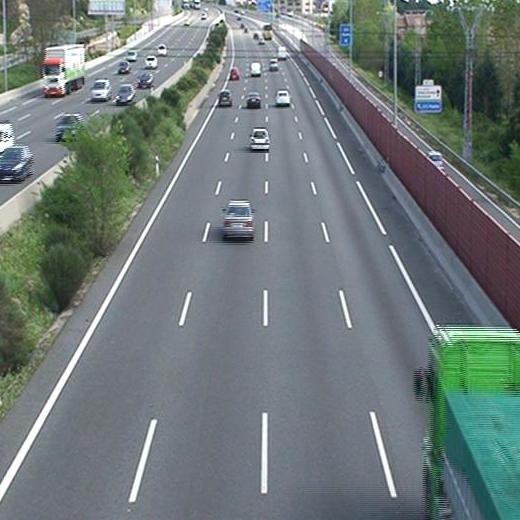car: (221, 200, 256, 238), (250, 128, 270, 151), (245, 92, 263, 110), (218, 90, 233, 107), (276, 90, 291, 106), (229, 68, 241, 82), (268, 59, 280, 71)
van: (249, 61, 263, 77), (276, 45, 287, 61)
